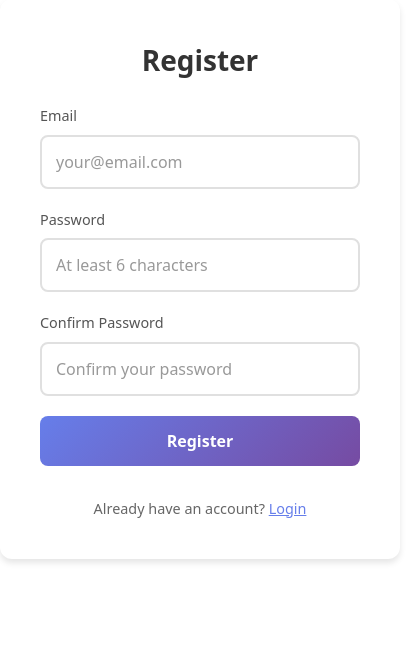
Test: RegisterForm › shows error when passwords do not match
The image size is (418, 649).
In the field labelled "Email": coordinates (200, 162) [40,135,360,189], type "a@b.com"
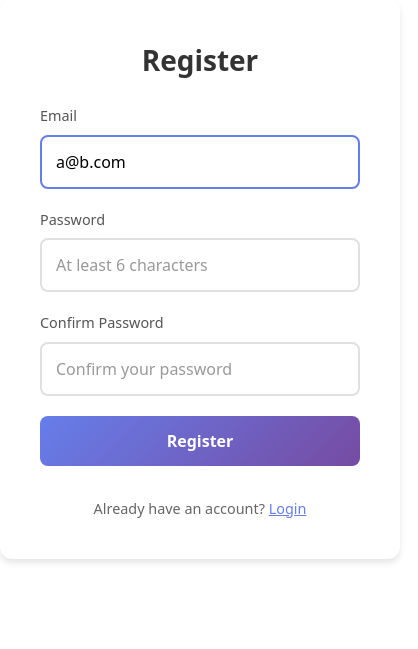
In the password field labelled "Password": coordinates (200, 265) [40,238,360,292], type "secret12"
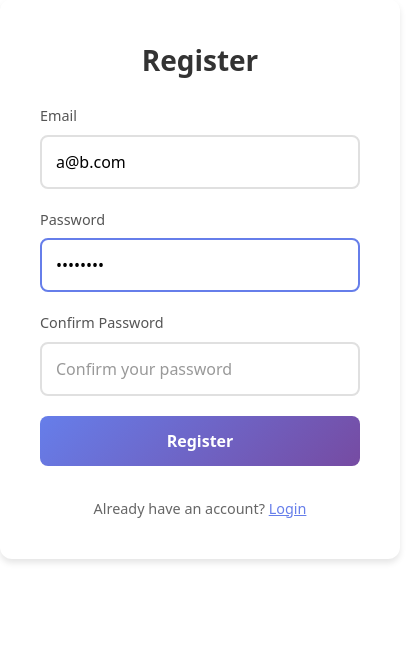
In the password field labelled "Confirm Password": coordinates (200, 369) [40,342,360,396], type "other12"
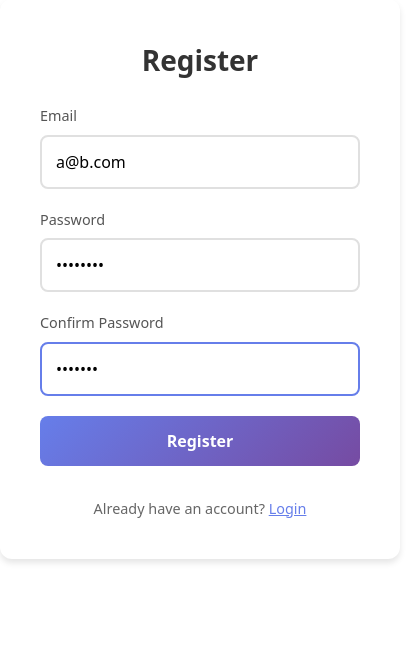
Click the button "Register": coordinates (200, 441) [40,416,360,466]
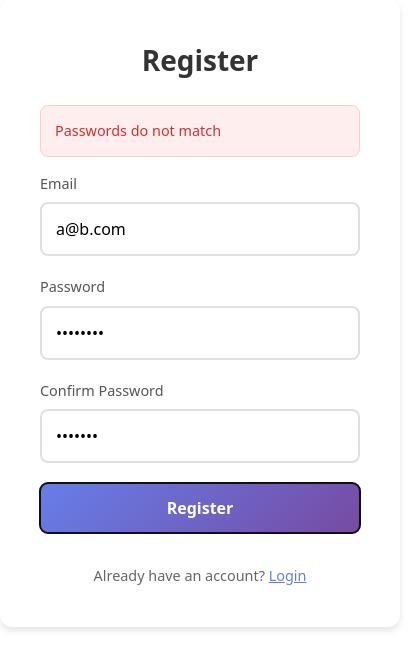
Expected: the text "Passwords do not match" is shown, [40,105,360,157]
